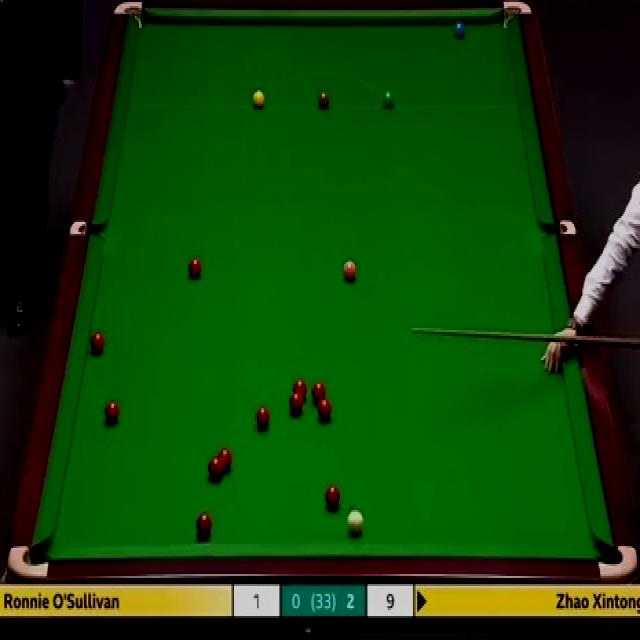blue-ball: (452, 18, 468, 43)
brown-ball: (317, 91, 331, 111)
green-ball: (380, 90, 394, 112)
pink-ball: (341, 256, 360, 284)
red-ball: (102, 397, 120, 427), (195, 513, 214, 540), (206, 457, 225, 482), (325, 485, 341, 512), (89, 332, 106, 357), (188, 256, 204, 280), (256, 408, 272, 432), (288, 393, 304, 416), (291, 379, 308, 400), (218, 448, 234, 470), (317, 398, 332, 420), (311, 382, 327, 402)
white-ball: (346, 508, 363, 534)
yellow-ball: (252, 90, 266, 110)
